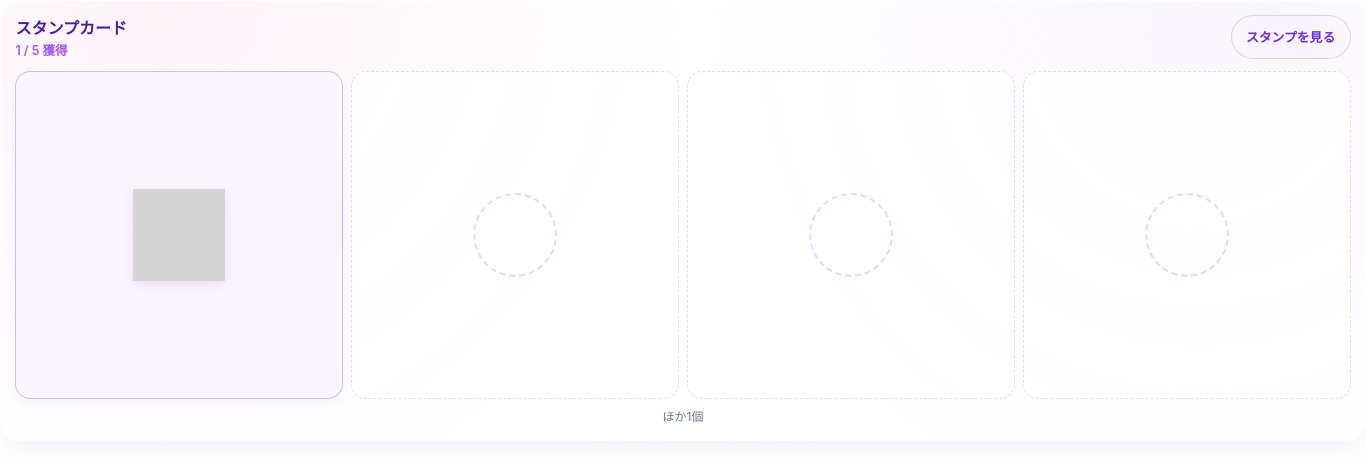
Scenario: ChallengeStampCard › starts collapsed for 5+ stamps and toggles expand/collapse
Expected: the text "ほか1個" is shown, left=662, top=409, right=703, bottom=424
Expected: the text "スタンプを押して、思い出をひらこう" is not shown
Click the button "スタンプを見る". click: [1291, 37]
box: left=1231, top=15, right=1351, bottom=59
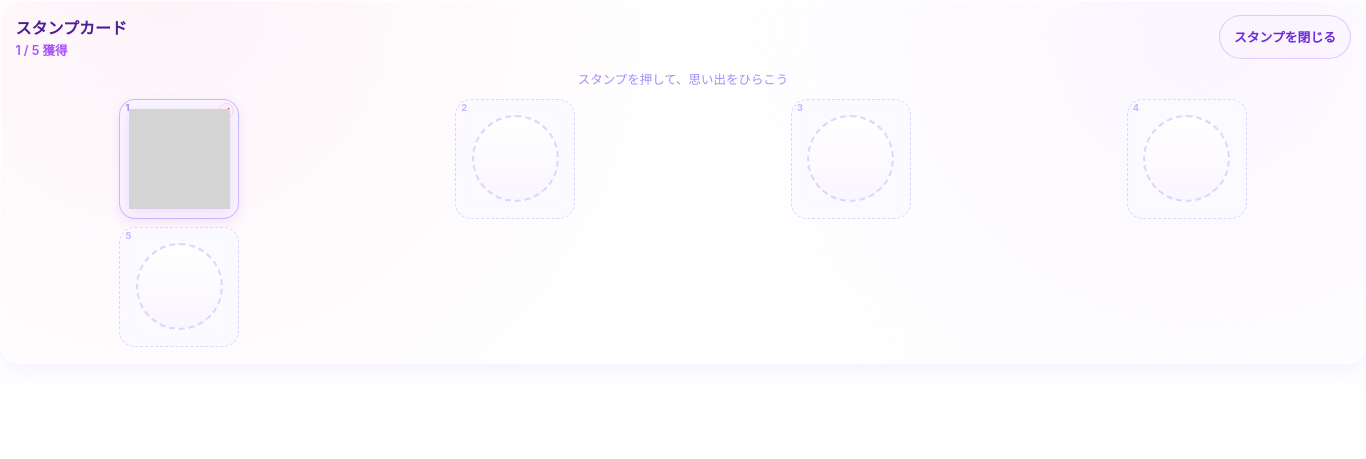
Expected: the button "スタンプを閉じる" is expanded
Expected: the text "スタンプを押して、思い出をひらこう" is shown, left=578, top=72, right=788, bottom=87
Expected: the text "✓" is shown, left=219, top=103, right=234, bottom=118
Click the button "スタンプを閉じる". click: [1285, 37]
box: left=1219, top=15, right=1351, bottom=59
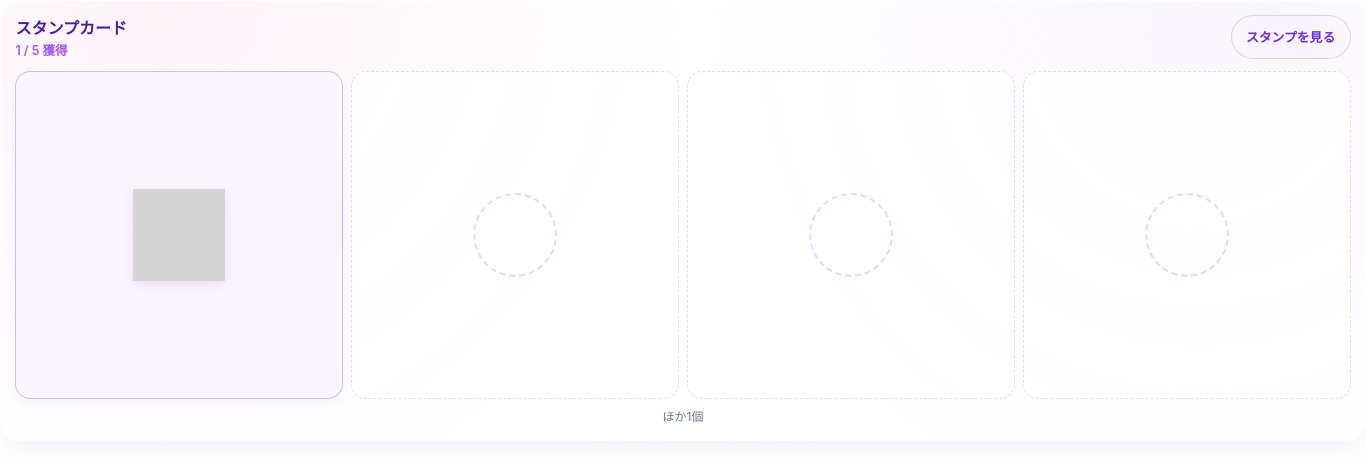
Expected: the button "スタンプを見る" is shown, left=1231, top=15, right=1351, bottom=59
